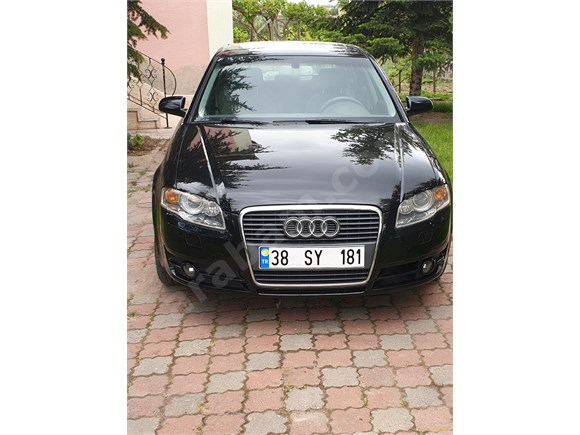audi: (278, 212, 342, 239)
